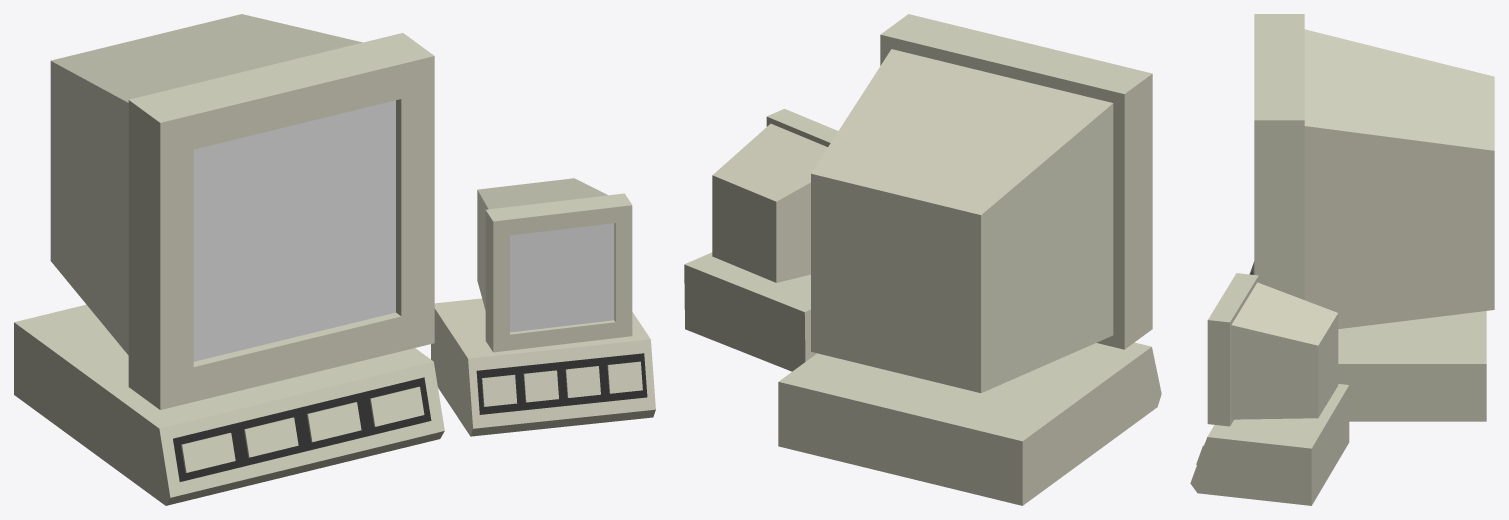
The model's file is game_of_life_monitor.gltf.
3 renders of one model, left to right at view 1: azimuth 30°, elevation 25°; view 2: azimuth 150°, elevation 25°; view 3: azimuth 270°, elevation 25°, orthographic. The views are drawn at different scales.
Visible parts, largest first — view 1: Monitor, MonitorScreen, MonitorControls, PatternMonitorControls, PatternMonitor, PatternMonitorScreen, Button_3, Button_2, Button_1, Button_0, PB_1, PB_3 (+2 smaller); view 2: Monitor, MonitorControls, PatternMonitor, PatternMonitorControls; view 3: Monitor, PatternMonitor, MonitorControls, PatternMonitorControls.
Boxes of the visible parts, x1,y1,x2,y2 form: Monitor: (50,14,434,409); MonitorScreen: (193,100,395,361); MonitorControls: (14,304,444,505); PatternMonitorControls: (431,298,655,436); PatternMonitor: (477,178,632,352); PatternMonitorScreen: (510,223,614,332); Button_3: (369,386,424,426); Button_2: (306,402,361,442); Button_1: (244,417,298,457); Button_0: (181,432,235,472); PB_1: (523,370,558,402); PB_3: (607,361,642,393); Monitor: (811,14,1152,392); MonitorControls: (778,342,1161,505); PatternMonitor: (712,109,838,282); PatternMonitorControls: (684,252,816,371); Monitor: (1254,14,1494,328); PatternMonitor: (1207,273,1338,426); MonitorControls: (1249,261,1486,421); PatternMonitorControls: (1190,384,1349,505).
Size of the model in its own units: 3.57 by 2.65 by 2.42.
